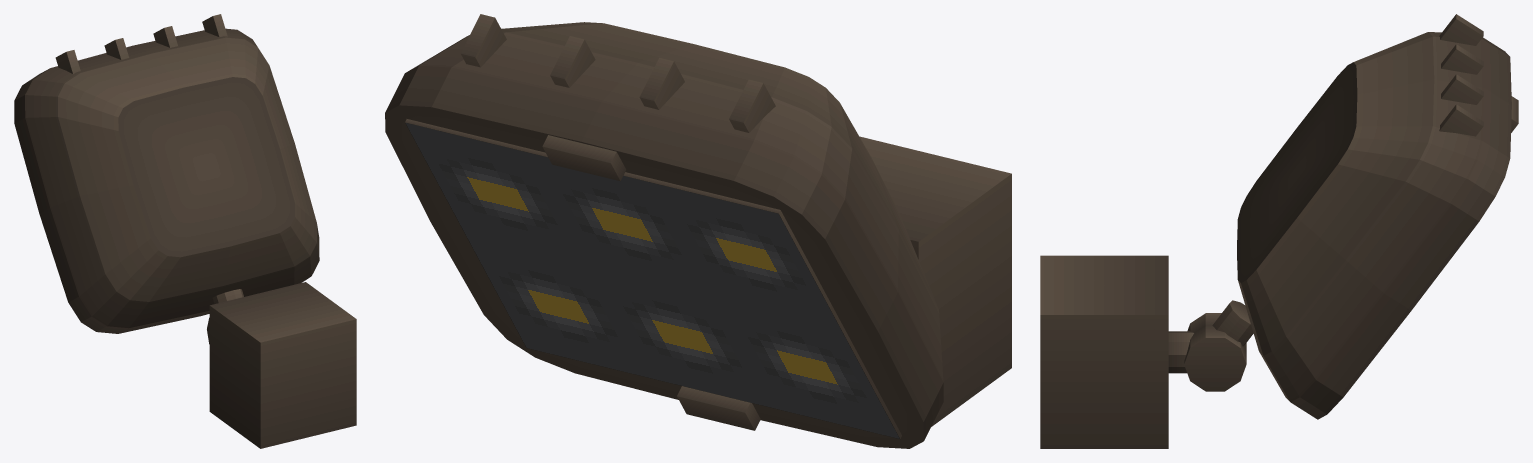
File: floodlight_lithtflsf.obj
The picture shows the model from 3 angles, left to right: view 1: azimuth 30°, elevation 25°; view 2: azimuth 150°, elevation 25°; view 3: azimuth 270°, elevation 25°; orthographic projection. The views are drawn at different scales.
Visible parts, largest first — view 1: fixture; view 2: fixture; view 3: fixture.
Part boxes in pixels (x1,y1,x2,y2): fixture: (14,14,356,448); fixture: (385,14,1011,448); fixture: (1040,14,1518,448).
Size of the model in its own units: 0.5714 by 0.6338 by 0.7684.
